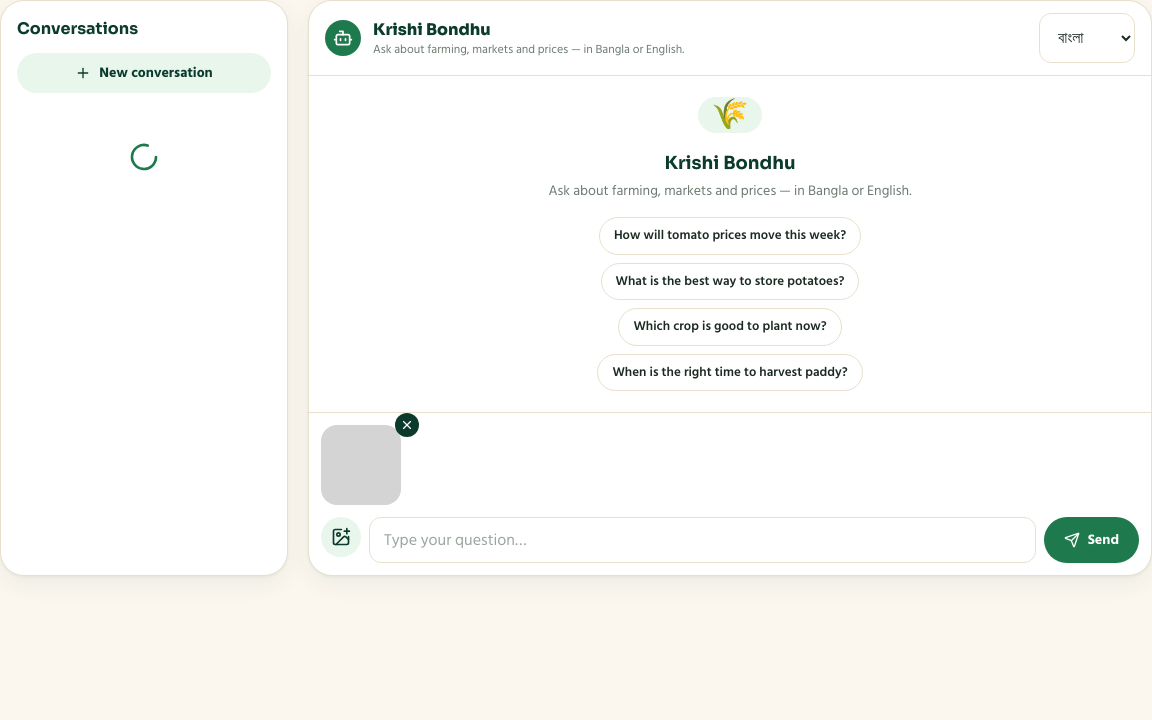
it: AssistantPage voice › uses the English voice for a Banglish reply even when the chat language is Bangla
Earlier steps of the test are not shown.
Later steps or results of the test are not shown.
Click the button "Send" at (1091, 540), box [1044,517,1139,563]
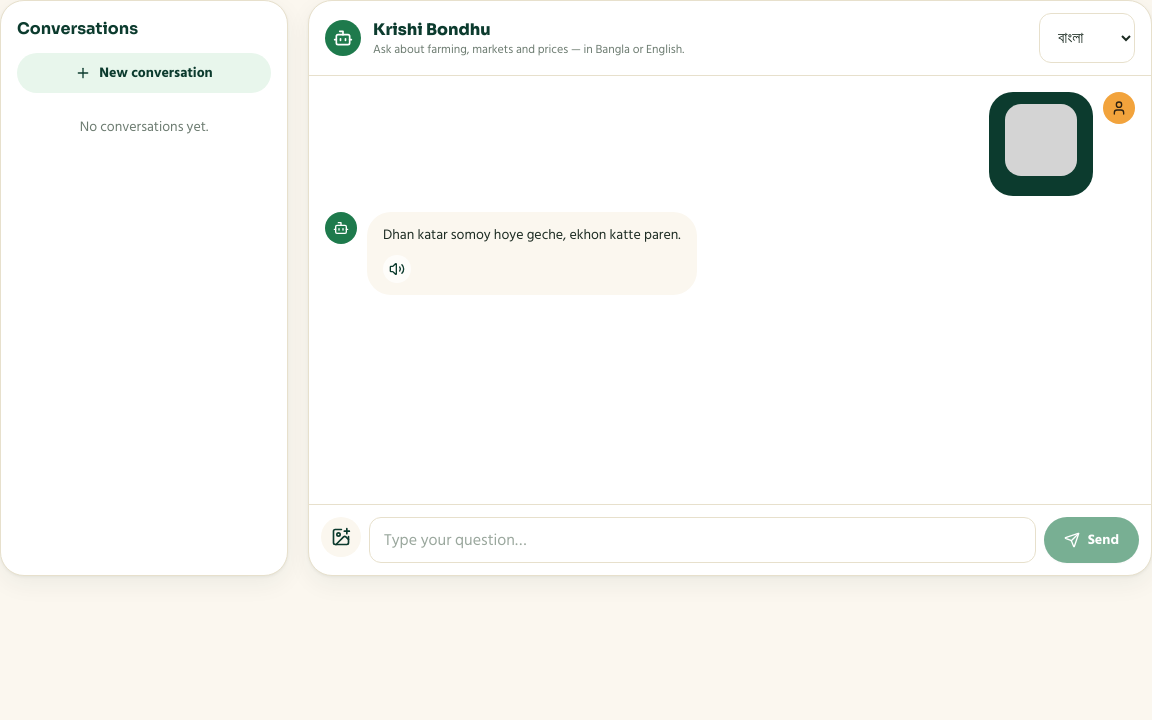
Expected: the text "Dhan katar somoy hoye geche, ekhon katte paren." is shown, [383,224,681,247]
